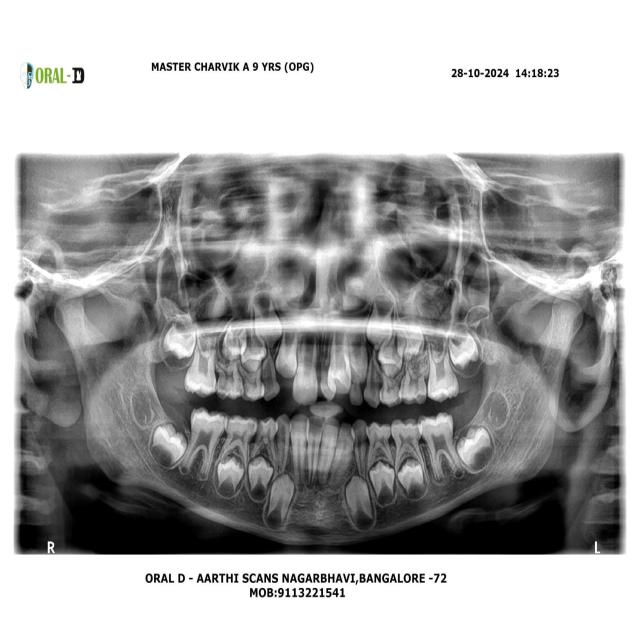Premolars: (363, 418, 396, 475)
